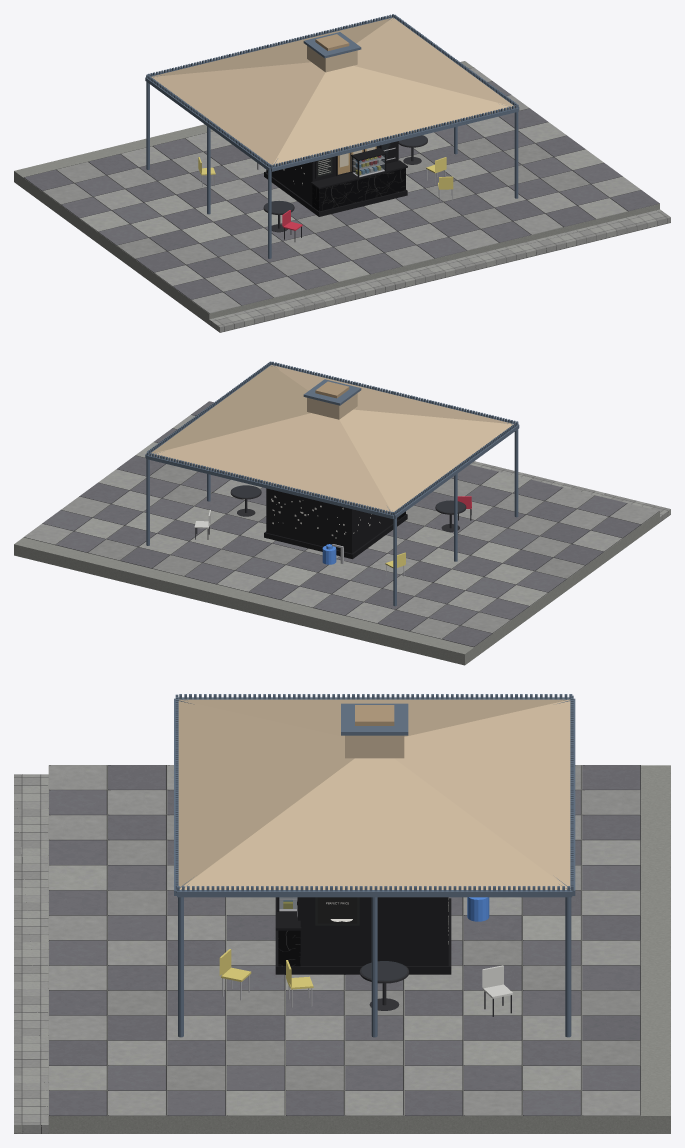
The model's file is Xpress_Cafe_Building.glb.
3 renders of one model, top to bottom at view 1: azimuth 30°, elevation 25°; view 2: azimuth 150°, elevation 25°; view 3: azimuth 270°, elevation 25°, orthographic. The views are drawn at different scales.
Visible parts, largest first — view 1: CXP_Terrace, CXP_Canopy, CXP_Kiosk, CXP_Furniture; view 2: CXP_Terrace, CXP_Canopy, CXP_Kiosk, CXP_Furniture; view 3: CXP_Terrace, CXP_Canopy, CXP_Kiosk, CXP_Furniture.
Part boxes in pixels (x1,y1,x2,y2): CXP_Terrace: (14,61,670,332); CXP_Canopy: (145,14,519,258); CXP_Kiosk: (257,141,407,216); CXP_Furniture: (198,135,453,241); CXP_Terrace: (14,401,670,665); CXP_Canopy: (145,361,519,606); CXP_Kiosk: (264,488,407,564); CXP_Furniture: (194,485,471,576); CXP_Terrace: (14,765,670,1133); CXP_Canopy: (174,694,575,1037); CXP_Kiosk: (275,897,489,974); CXP_Furniture: (219,949,512,1016).
Bounding box in the file's own units: 33.6 × 10.96 × 26.6.
27 materials, 5 textured.
